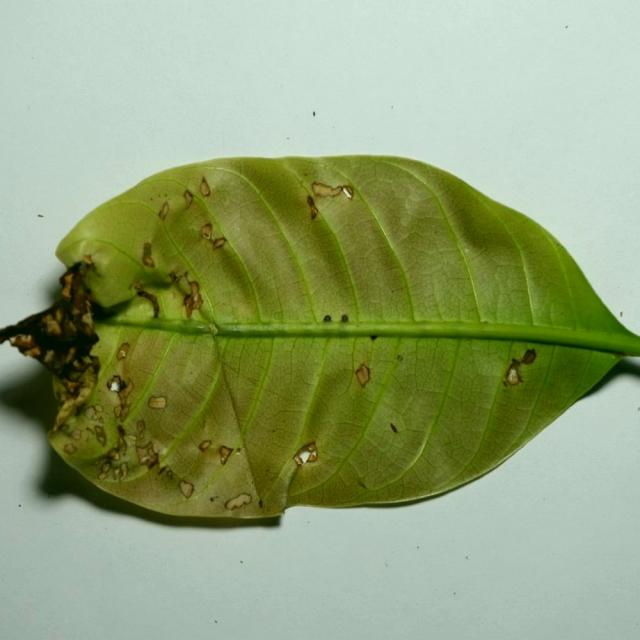Anthracnose: (59, 262, 86, 300), (134, 284, 160, 319), (183, 278, 203, 319), (351, 362, 376, 393), (292, 441, 318, 467), (135, 441, 158, 467), (10, 333, 38, 353), (41, 314, 64, 338), (505, 360, 524, 386), (224, 493, 252, 510), (106, 375, 128, 396), (78, 313, 95, 336), (84, 405, 104, 422), (142, 242, 155, 268), (218, 445, 234, 465), (179, 480, 195, 499), (114, 403, 130, 422), (116, 341, 131, 361), (63, 380, 82, 395), (147, 395, 167, 409), (94, 425, 107, 446), (158, 465, 175, 481), (307, 196, 318, 220), (521, 348, 537, 364), (43, 349, 57, 367), (97, 463, 111, 480), (199, 177, 210, 197), (158, 202, 169, 222), (200, 222, 212, 240), (341, 185, 354, 200), (107, 448, 121, 461), (212, 237, 227, 249), (184, 189, 193, 208), (119, 462, 129, 479), (63, 443, 76, 455), (199, 440, 212, 451), (83, 254, 94, 266), (169, 271, 180, 283), (136, 419, 145, 433), (71, 429, 82, 440), (125, 434, 137, 444), (54, 424, 66, 434), (117, 425, 126, 438), (75, 405, 84, 416), (390, 423, 398, 434), (502, 379, 510, 388), (341, 314, 349, 322), (358, 480, 366, 488), (323, 315, 331, 322), (397, 355, 403, 362), (370, 335, 377, 340), (236, 448, 241, 453), (619, 311, 623, 317)
Mango: (0, 156, 639, 531)
